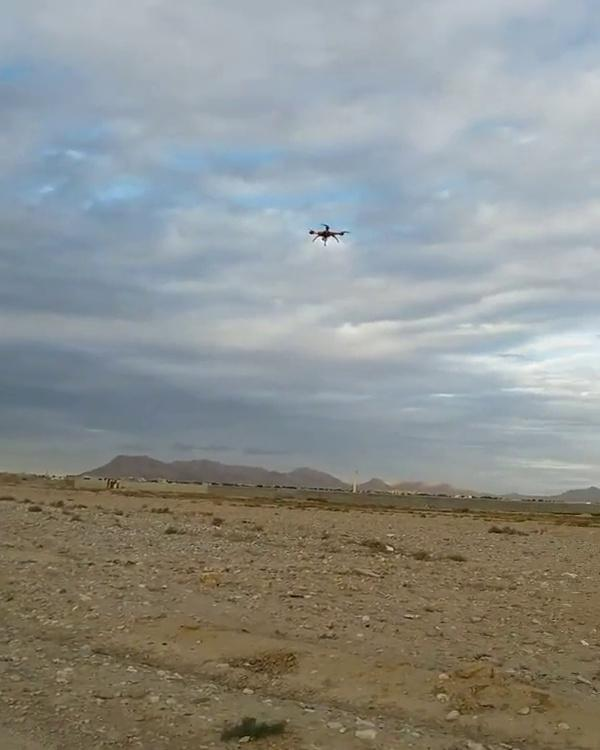drone: (304, 216, 352, 248)
